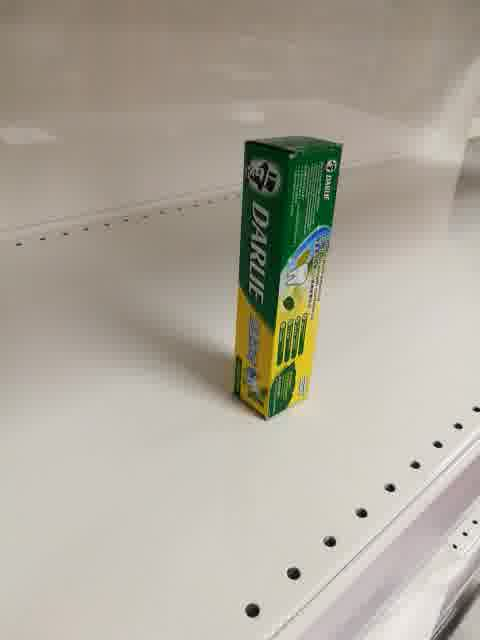toothpaste: (233, 137, 343, 421)
